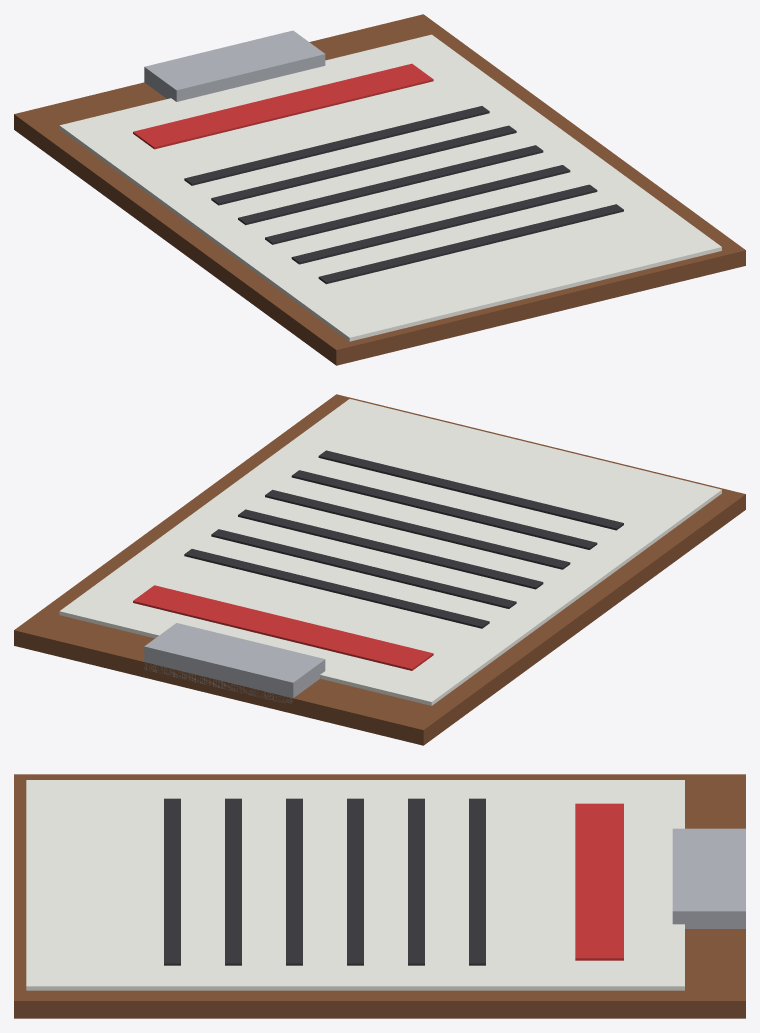
Rendered from sales_script.glb.
The picture shows the model from 3 angles, top to bottom: view 1: azimuth 30°, elevation 25°; view 2: azimuth 150°, elevation 25°; view 3: azimuth 270°, elevation 25°; orthographic projection. The views are drawn at different scales.
Visible parts, largest first — view 1: sheet_policy_paper, board_clipboard, lines_folder_text (×6), clip_clip_steel, title_script_red; view 2: sheet_policy_paper, board_clipboard, lines_folder_text (×6), clip_clip_steel, title_script_red; view 3: sheet_policy_paper, board_clipboard, lines_folder_text (×6), title_script_red, clip_clip_steel.
Part boxes in pixels (x1,y1,x2,y2): sheet_policy_paper: (59,34,721,341); board_clipboard: (14,14,745,365); lines_folder_text (×6): (184,106,623,284); clip_clip_steel: (144,30,325,101); title_script_red: (133,63,433,149); sheet_policy_paper: (59,399,721,705); board_clipboard: (14,394,745,745); lines_folder_text (×6): (184,450,623,628); clip_clip_steel: (144,623,325,703); title_script_red: (133,585,433,670); sheet_policy_paper: (26,780,684,990); board_clipboard: (14,774,745,1018); lines_folder_text (×6): (164,798,485,965); title_script_red: (575,803,623,960); clip_clip_steel: (672,828,745,928).
Bounding box in the file's own units: 0.22 × 0.016 × 0.3.
